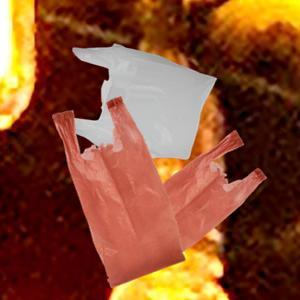plastic_bag: (51, 94, 189, 291), (68, 40, 219, 163), (162, 128, 269, 254)
